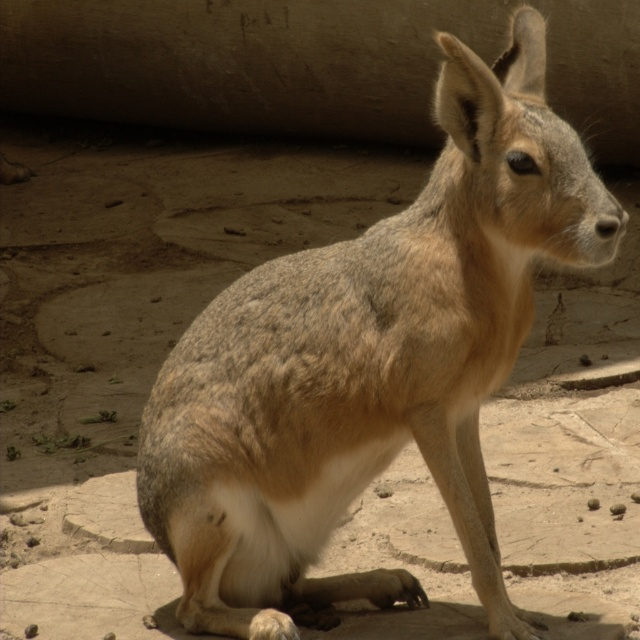Kangaroo: (134, 5, 634, 640)
